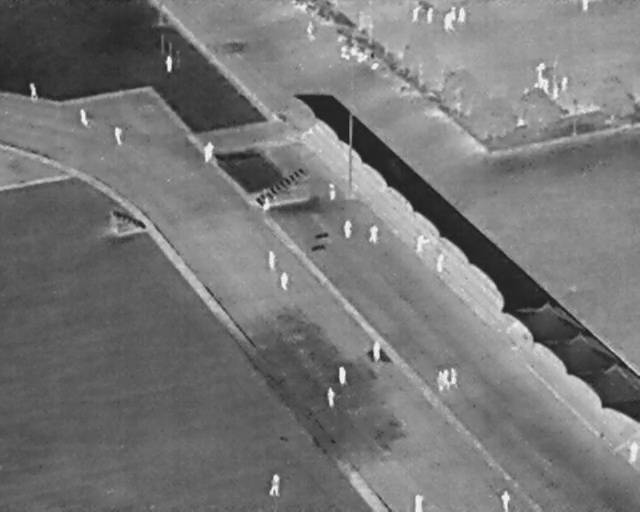DontCare: (334, 31, 386, 73)
Person: (306, 21, 317, 43), (629, 440, 639, 464), (501, 489, 511, 512), (270, 474, 280, 497), (204, 142, 214, 163), (444, 12, 454, 32), (368, 225, 378, 245), (279, 271, 289, 291), (536, 62, 545, 82), (343, 220, 352, 240), (414, 494, 424, 512), (114, 126, 123, 146), (436, 254, 445, 274), (79, 108, 88, 127), (268, 250, 276, 271), (373, 341, 381, 362), (328, 386, 335, 409), (450, 367, 458, 387), (437, 370, 444, 392), (30, 82, 38, 101), (458, 6, 466, 24), (165, 55, 173, 73), (328, 184, 336, 201), (339, 366, 346, 385), (443, 369, 450, 388), (561, 77, 569, 92), (412, 8, 420, 23), (427, 7, 434, 24), (263, 197, 270, 214), (450, 6, 457, 22), (581, 0, 589, 12)
